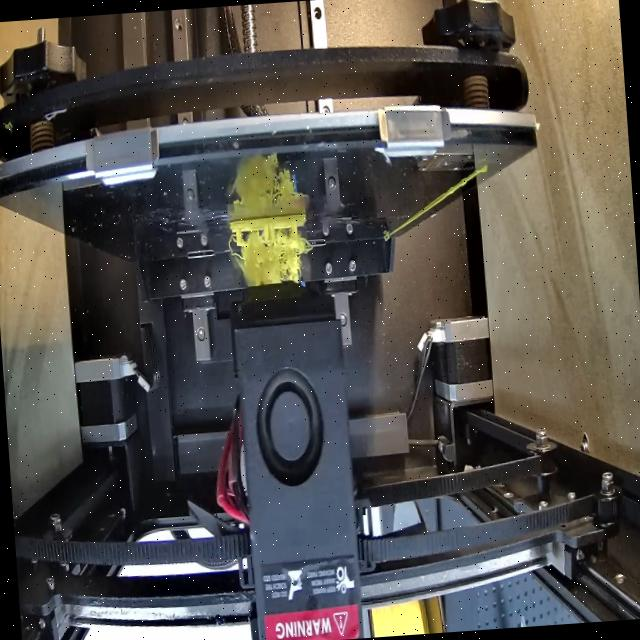spaghetti: (227, 226, 312, 293)
